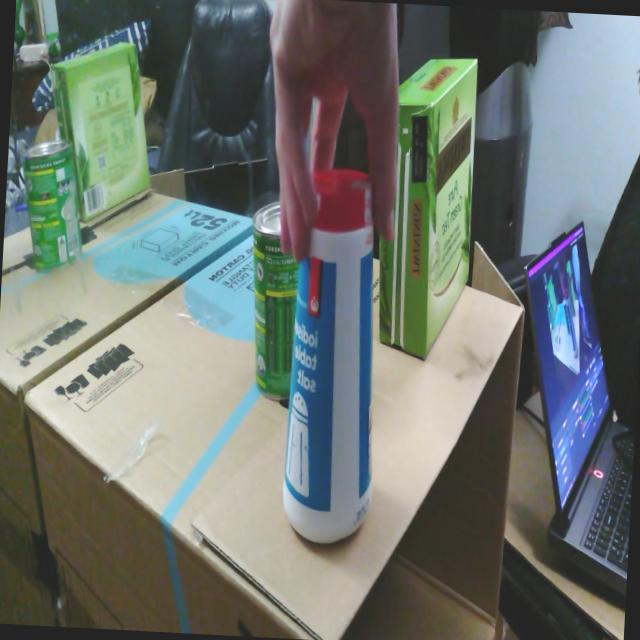nestle_milo_tin: (253, 202, 299, 399)
twinings_greentea_box: (380, 59, 477, 359)
woolworths_salt_bottle: (283, 170, 374, 543)
